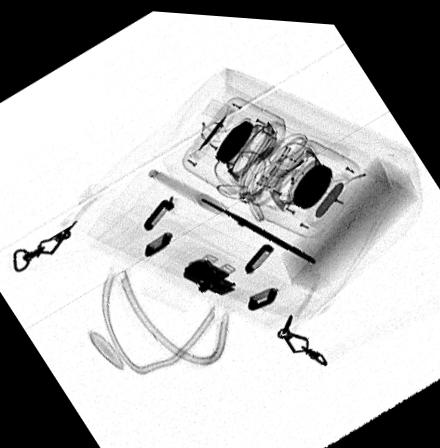Scissors: (146, 164, 319, 261)
